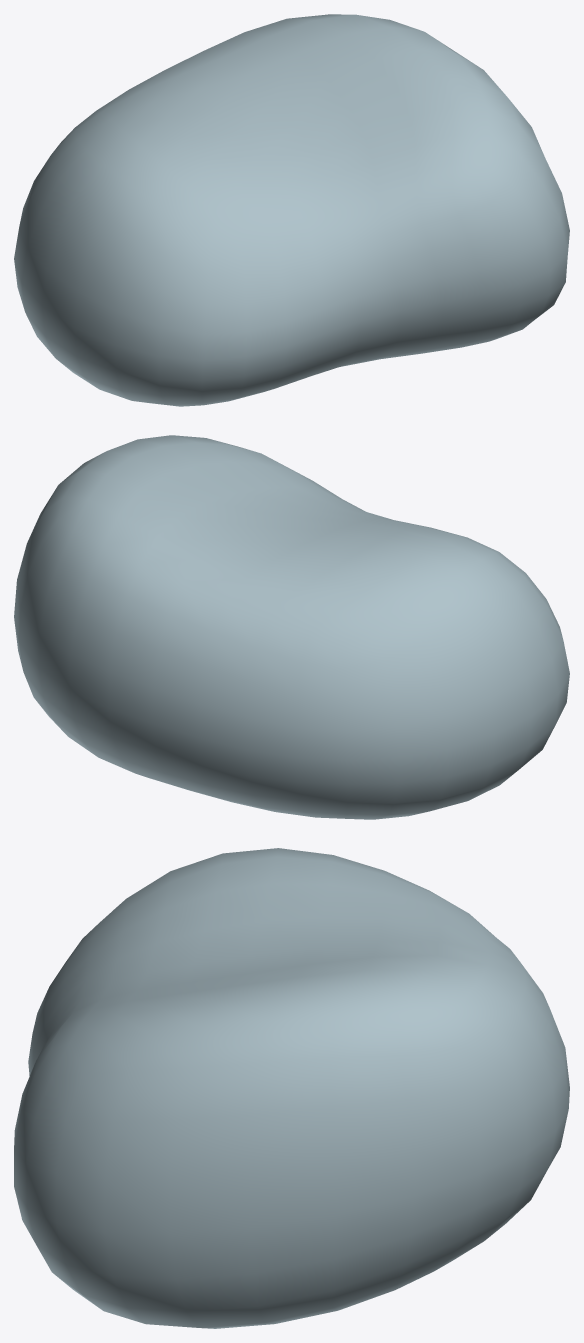
Rendered from Rock_A_03.fbx.
3 views of the same model, one above another, from view 1: azimuth 30°, elevation 25°; view 2: azimuth 150°, elevation 25°; view 3: azimuth 270°, elevation 25° (orthographic). The views are drawn at different scales.
Visible parts, largest first — view 1: Rock_A_03_LOD0; view 2: Rock_A_03_LOD0; view 3: Rock_A_03_LOD0.
Part boxes in pixels (bbox=[...]): Rock_A_03_LOD0: bbox=[14, 14, 569, 406]; Rock_A_03_LOD0: bbox=[14, 435, 569, 819]; Rock_A_03_LOD0: bbox=[14, 848, 569, 1328].
Size of what is drawn, in the model's own units: 309 by 160 by 250.
